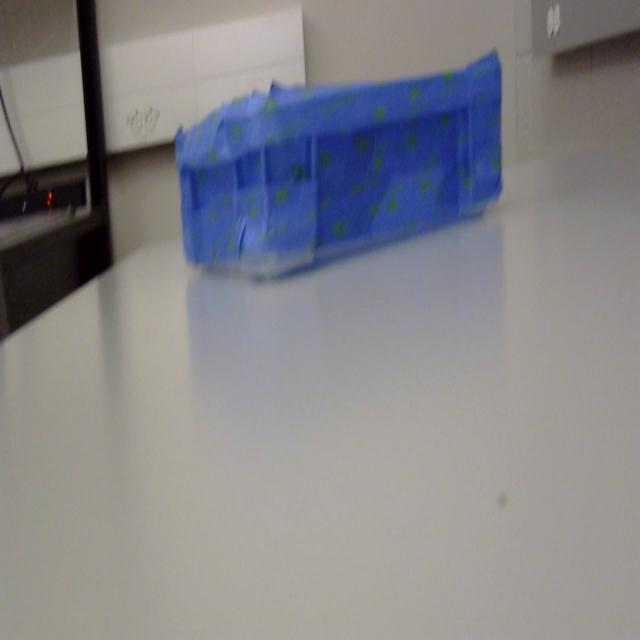bucket: (176, 51, 504, 284)
